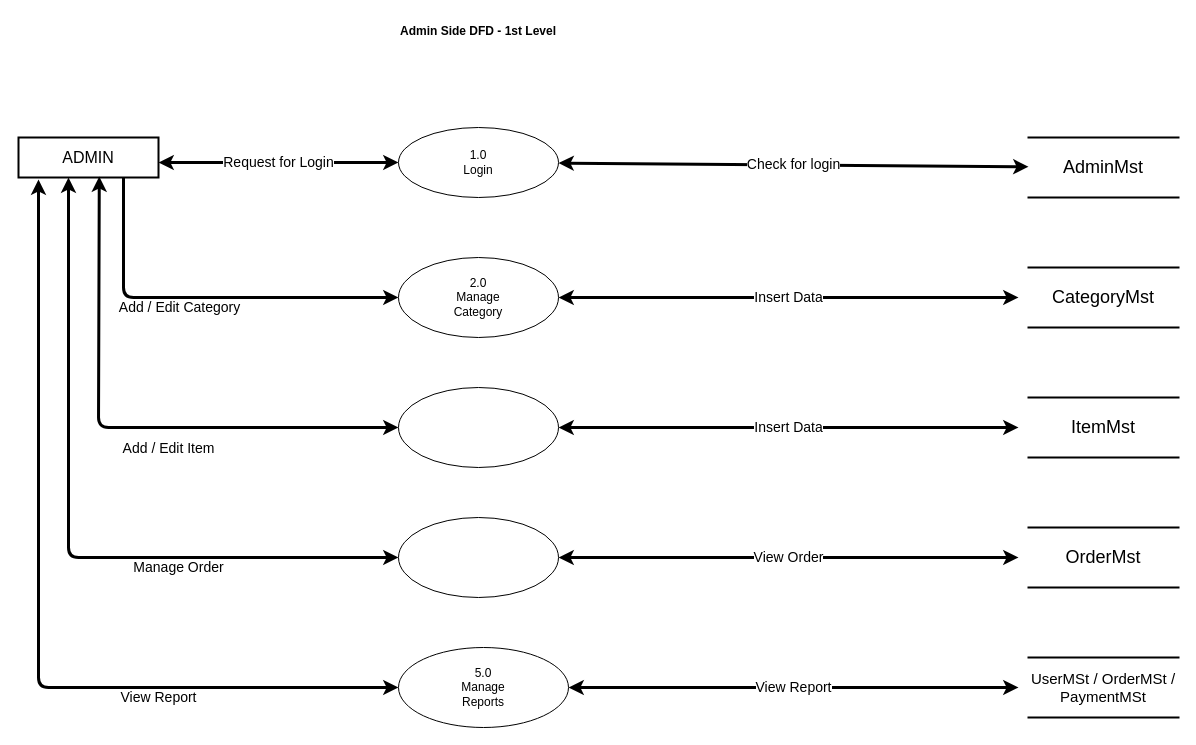
Image size: 1196x745. Some labels were removed from this diagram. The shapes that lost their labels are listed below. From the top down, each one's centre as x and y in pixels, then its label:
At [478,427]: "3.0 Manage Item".
At [478,557]: "4.0 Manage Order".
